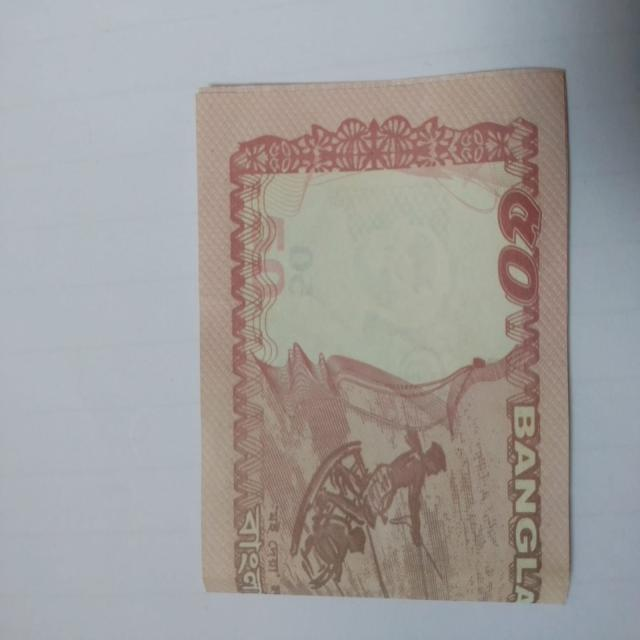Taka: (189, 61, 576, 608)
